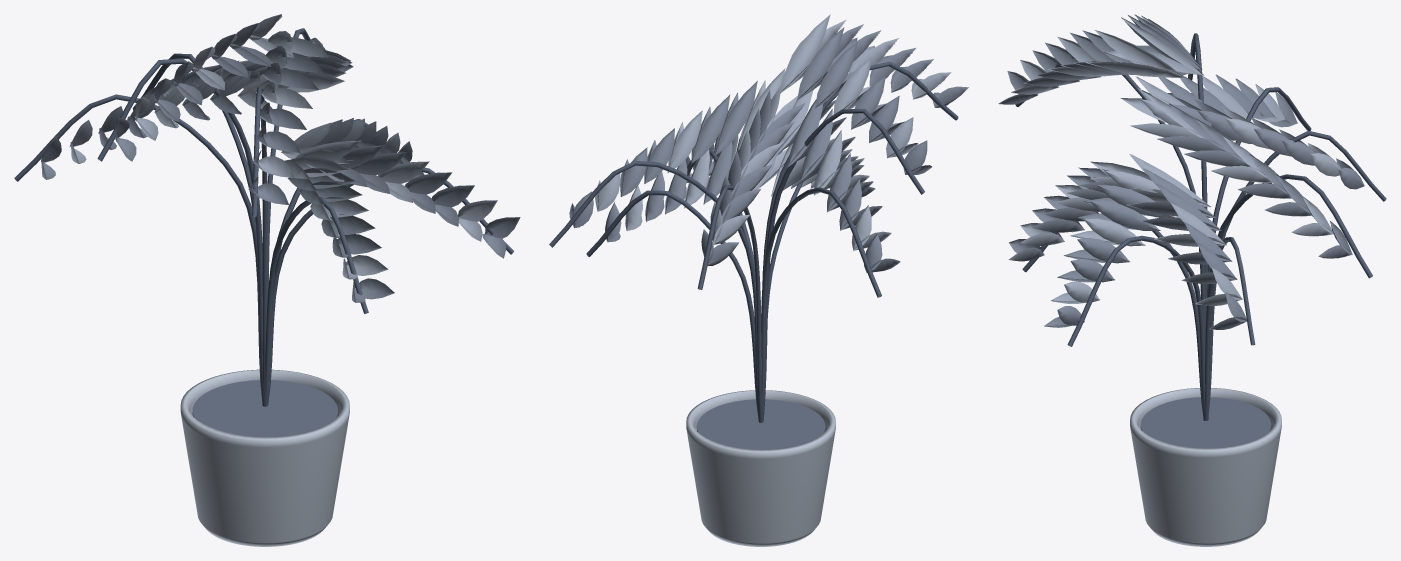
Rendered from 散尾葵-lite.glb.
The picture shows the model from 3 angles, left to right: view 1: azimuth 30°, elevation 25°; view 2: azimuth 150°, elevation 25°; view 3: azimuth 270°, elevation 25°; orthographic projection. The views are drawn at different scales.
Visible parts, largest first — view 1: soft, body, light, dark, glass; view 2: soft, body, light, dark, glass; view 3: soft, light, body, dark, glass.
Boxes of the visible parts, x1,y1,x2,y2 form: soft: (41, 23, 520, 302); body: (180, 369, 349, 546); light: (69, 14, 497, 279); dark: (14, 28, 513, 406); glass: (192, 380, 337, 436); soft: (569, 24, 968, 272); body: (686, 390, 835, 546); light: (595, 14, 951, 250); dark: (549, 61, 958, 422); glass: (696, 399, 825, 449); soft: (998, 14, 1364, 329); light: (1011, 15, 1341, 306); body: (1130, 388, 1281, 546); dark: (1015, 33, 1386, 420); glass: (1140, 397, 1271, 447).
Bounding box in the file's own units: 1.08 × 1.55 × 1.11.
